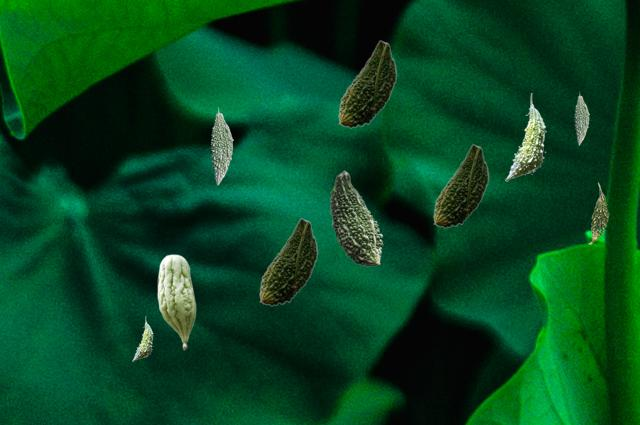ampalaya: (338, 40, 396, 127), (259, 218, 317, 305), (330, 170, 382, 265), (433, 144, 488, 227), (157, 254, 195, 349), (505, 93, 545, 180), (210, 106, 232, 184), (588, 182, 608, 243), (132, 316, 152, 360), (574, 91, 588, 144)
